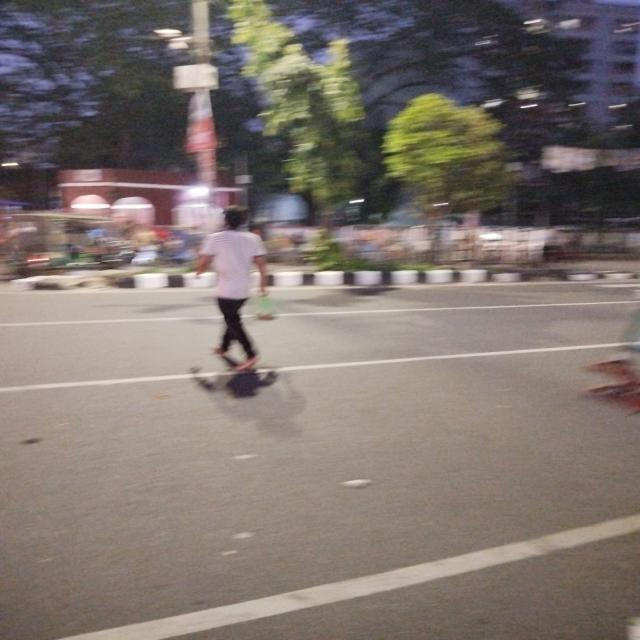person: (192, 204, 274, 374)
